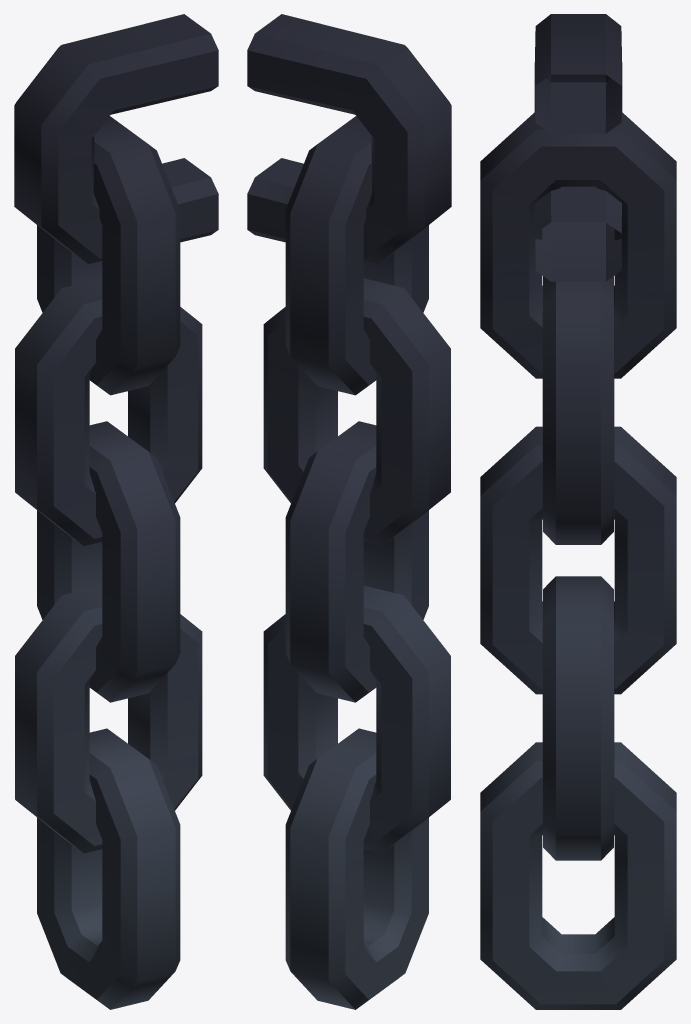
Rendered from Chain_2_3.obj.
3 renders of one model, left to right at view 1: azimuth 30°, elevation 25°; view 2: azimuth 150°, elevation 25°; view 3: azimuth 270°, elevation 25°, orthographic. The views are drawn at different scales.
Visible parts, largest first — view 1: Chain_2_3; view 2: Chain_2_3; view 3: Chain_2_3.
Boxes of the visible parts, bbox=[...] form: Chain_2_3: bbox=[14, 14, 218, 1009]; Chain_2_3: bbox=[247, 14, 451, 1009]; Chain_2_3: bbox=[480, 14, 676, 1009].
Bounding box in the file's own units: 0.1177 × 0.6187 × 0.1134.
